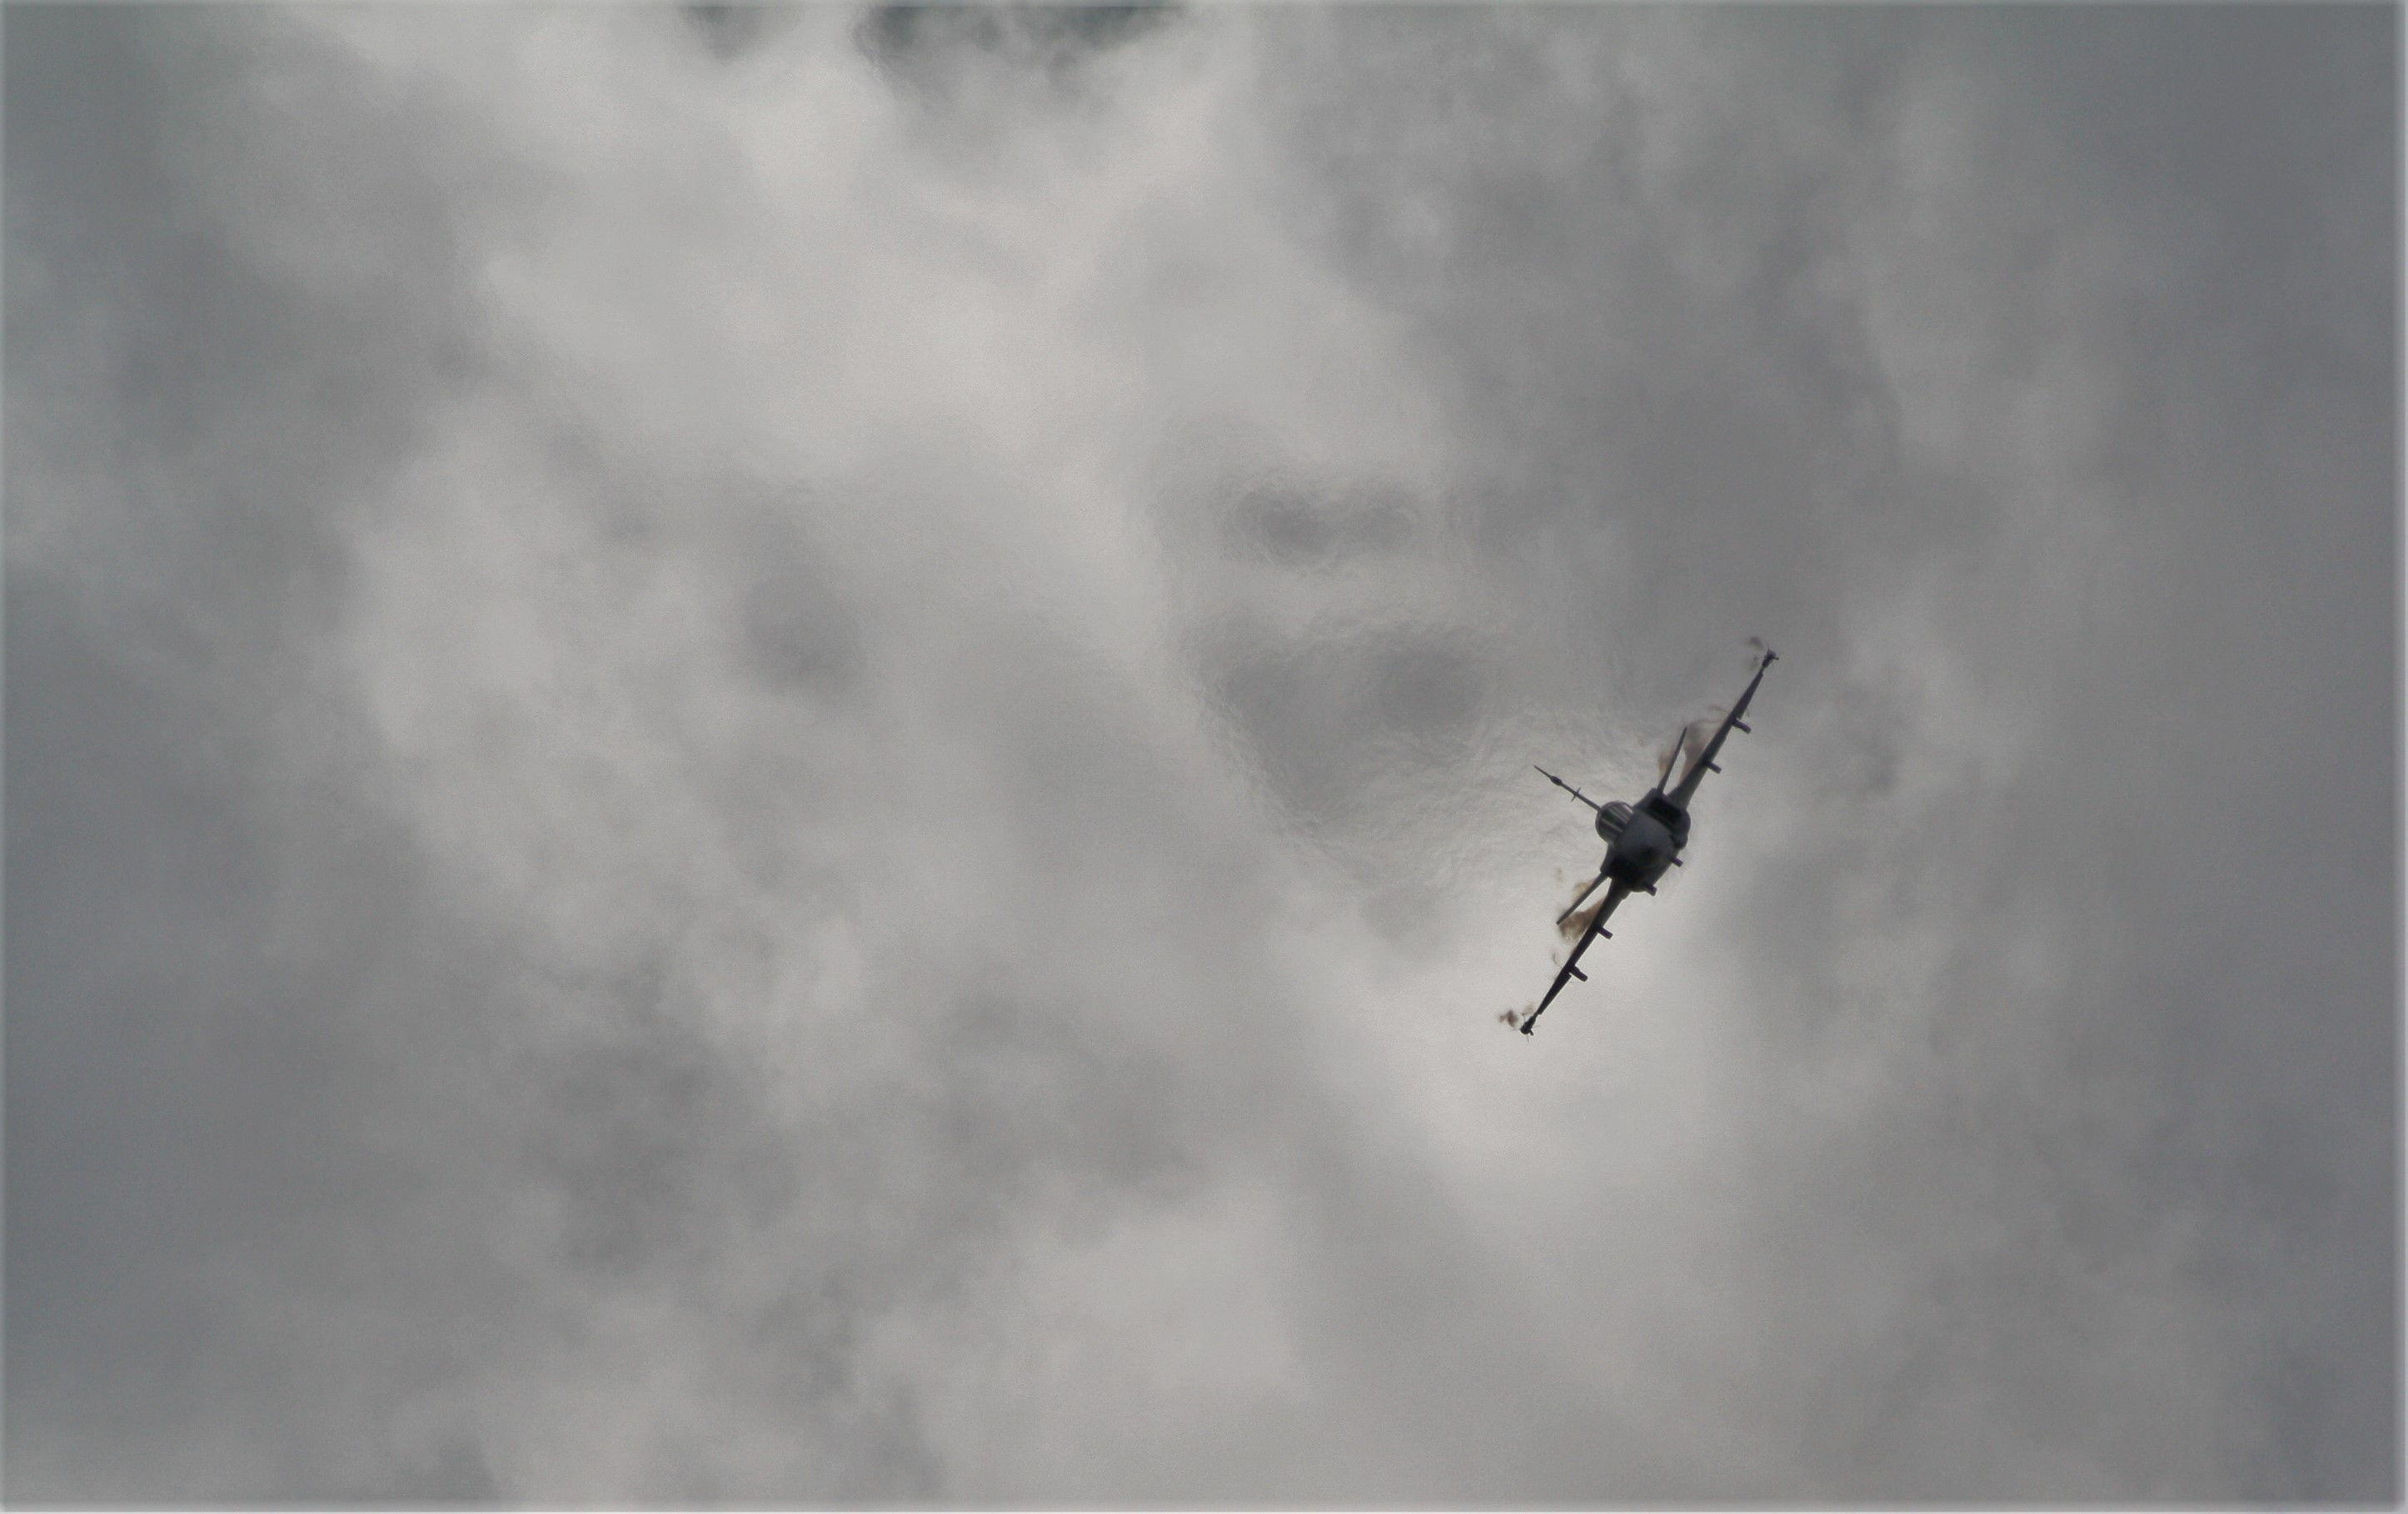JAS39: (1510, 640, 1786, 1045)
